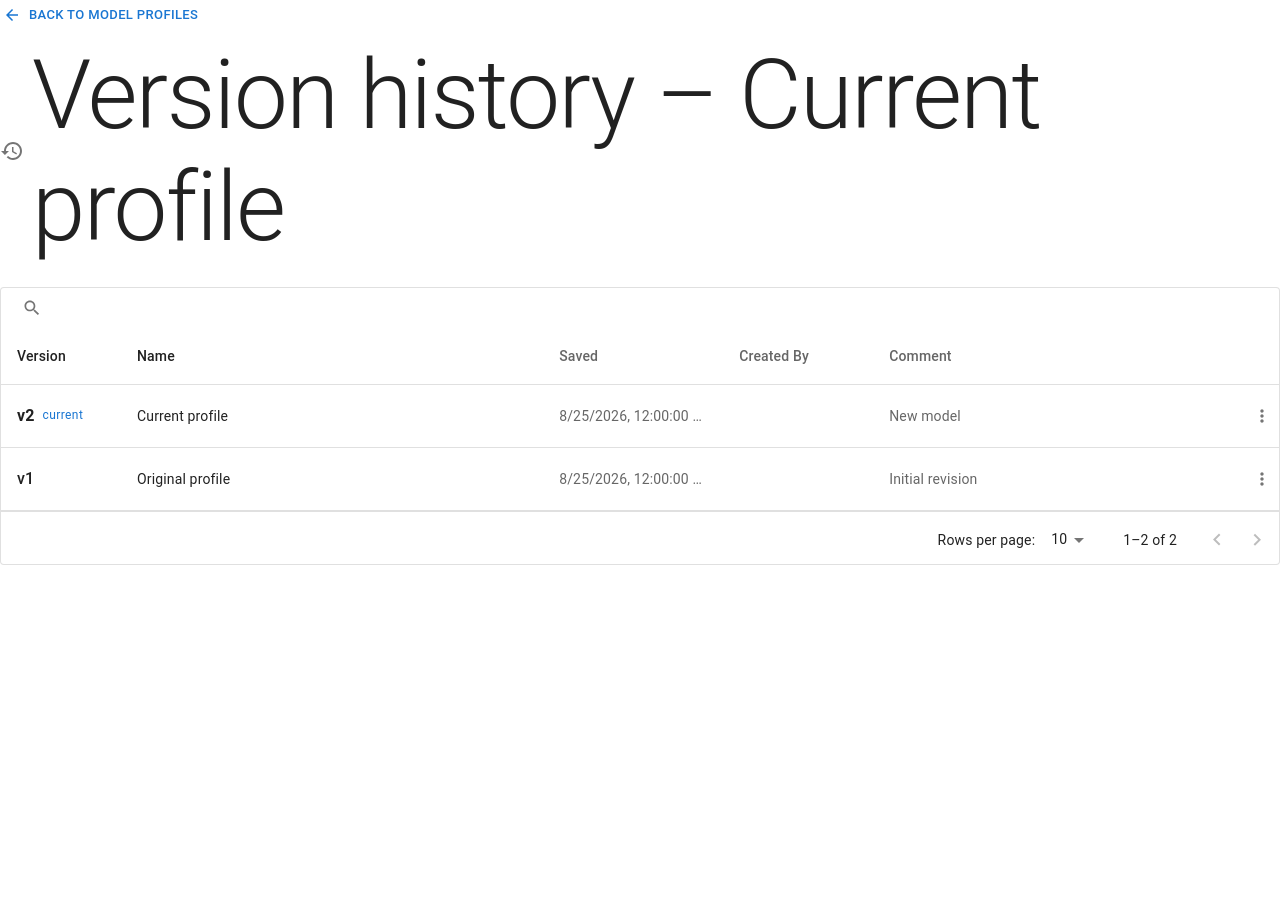
Test case: ModelProfileHistory › shows a revision in the shared detail view and marks the current version
Check: the text "Current profile" is shown, box [137,408,228,424]
Check: the heading reads "Version history – Current profile", box [32,39,1041,263]
Click the button named "Actions for version 2" at (1262, 416), box [1247,401,1277,431]
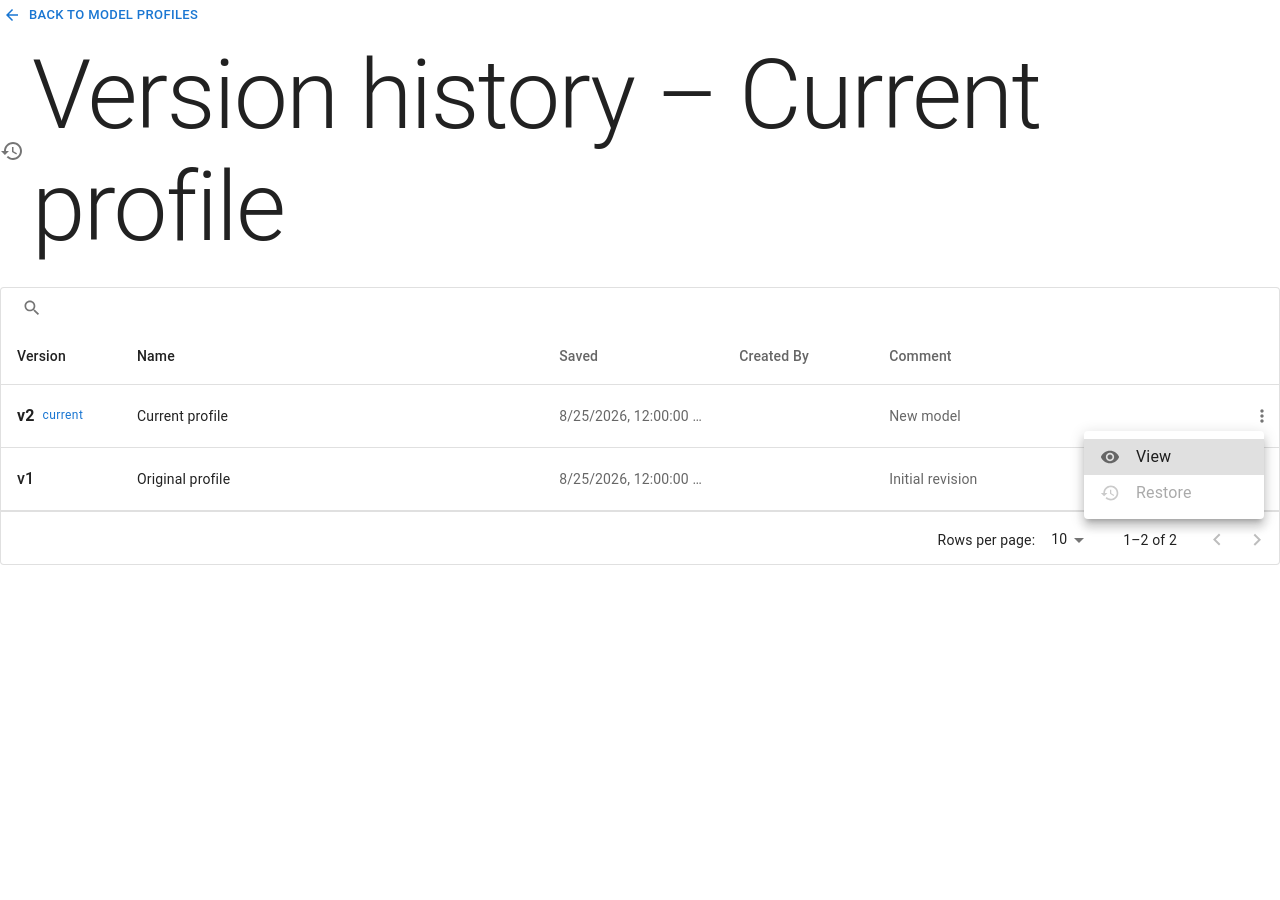
Click the menu item "View" at (1174, 457), box [1084,439,1264,475]
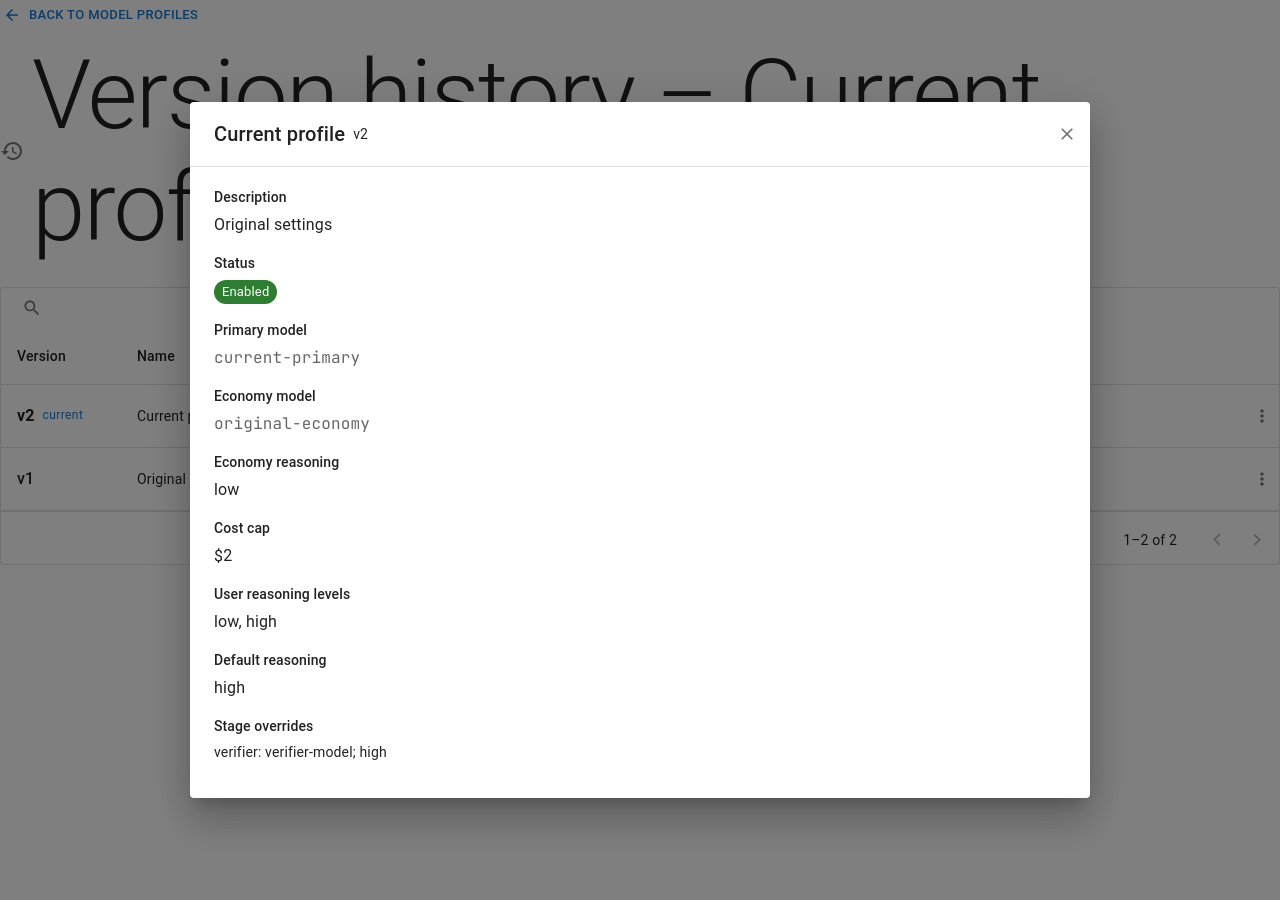
Check: the text "current-primary" is shown, box [214,347,360,368]
Check: the text "original-economy" is shown, box [214,413,370,434]
Check: the text "verifier: verifier-model; high" is shown, box [214,744,387,760]
